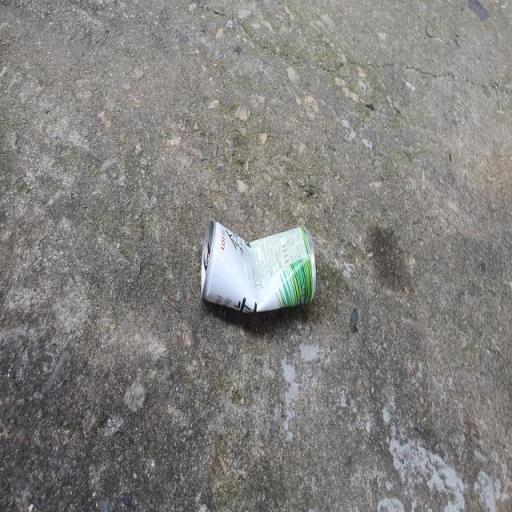metal: (189, 201, 323, 332)
